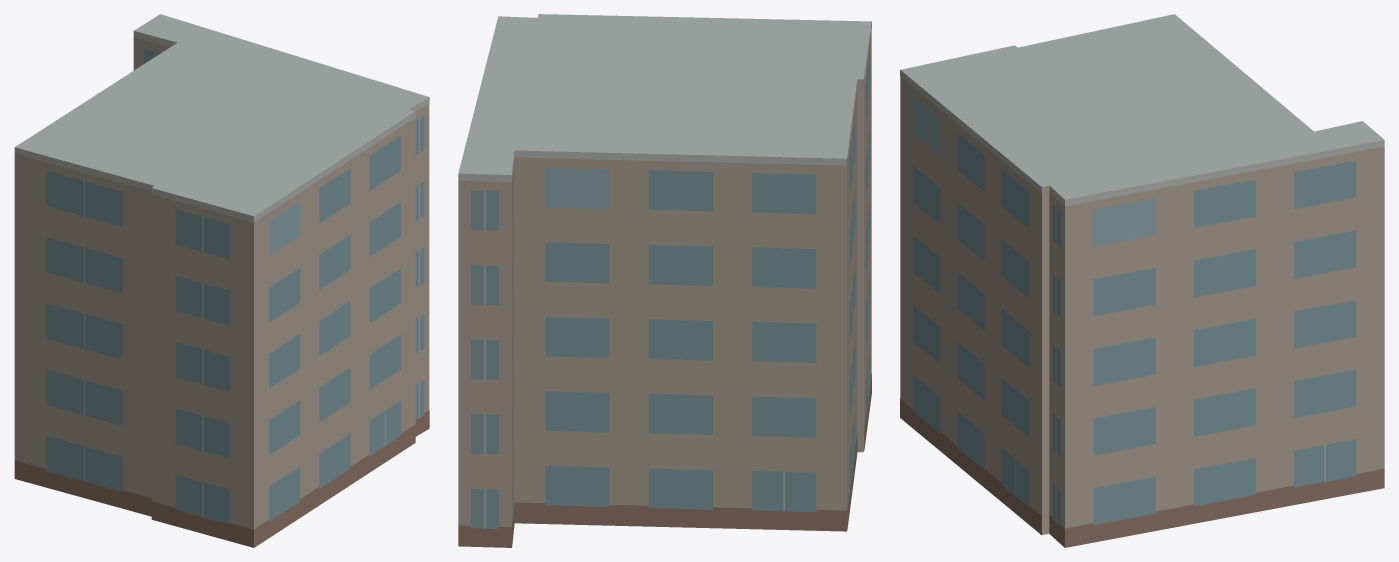
Rendered from survey-upis-32841509.glb.
3 renders of one model, left to right at view 1: azimuth 30°, elevation 25°; view 2: azimuth 150°, elevation 25°; view 3: azimuth 270°, elevation 25°, orthographic. The views are drawn at different scales.
Visible parts, largest first — view 1: survey-upis-32841509.tmp; view 2: survey-upis-32841509.tmp; view 3: survey-upis-32841509.tmp.
Boxes of the visible parts, x1=… form: survey-upis-32841509.tmp: x1=14, y1=14, x2=429, y2=547; survey-upis-32841509.tmp: x1=458, y1=14, x2=871, y2=547; survey-upis-32841509.tmp: x1=900, y1=14, x2=1384, y2=547.
Bounding box in the file's own units: 14.89 × 13 × 16.41.
